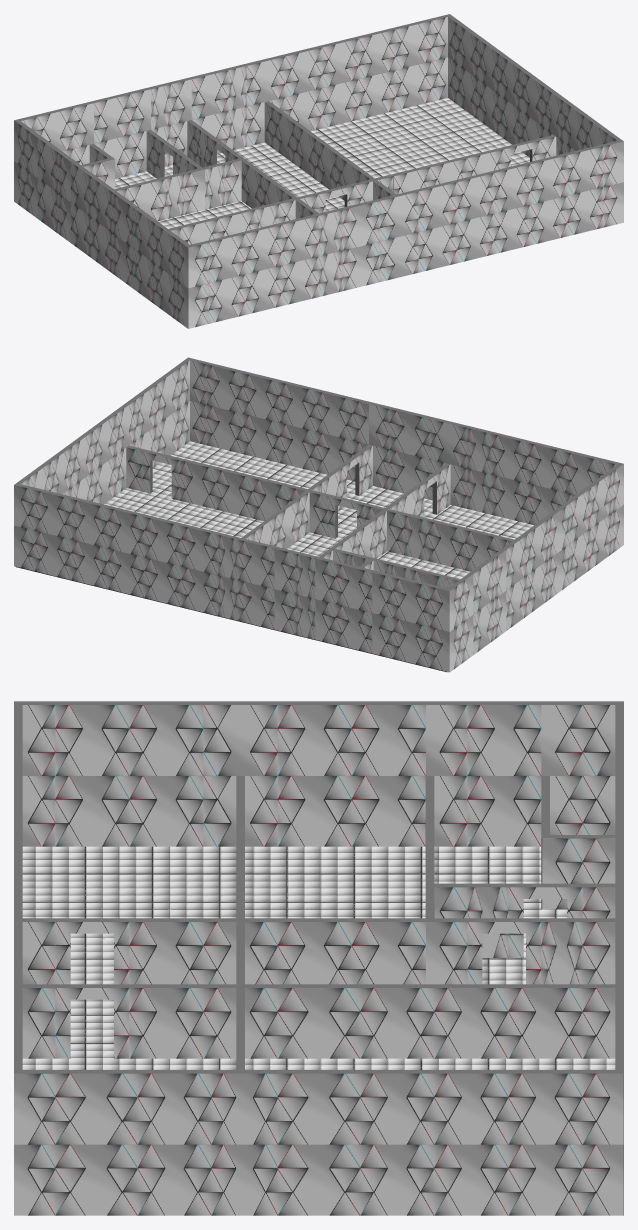
File: room3.fbx
3 renders of one model, top to bottom at view 1: azimuth 30°, elevation 25°; view 2: azimuth 150°, elevation 25°; view 3: azimuth 270°, elevation 25°, orthographic. The views are drawn at different scales.
Visible parts, largest first — view 1: polySurface584; view 2: polySurface584; view 3: polySurface584.
Boxes of the visible parts, box(x1,y1,x2,y2) form: polySurface584: box(14, 14, 623, 328); polySurface584: box(14, 357, 623, 672); polySurface584: box(14, 701, 623, 1215).
Size of the model in its own units: 87.66 by 15.7 by 60.69.
